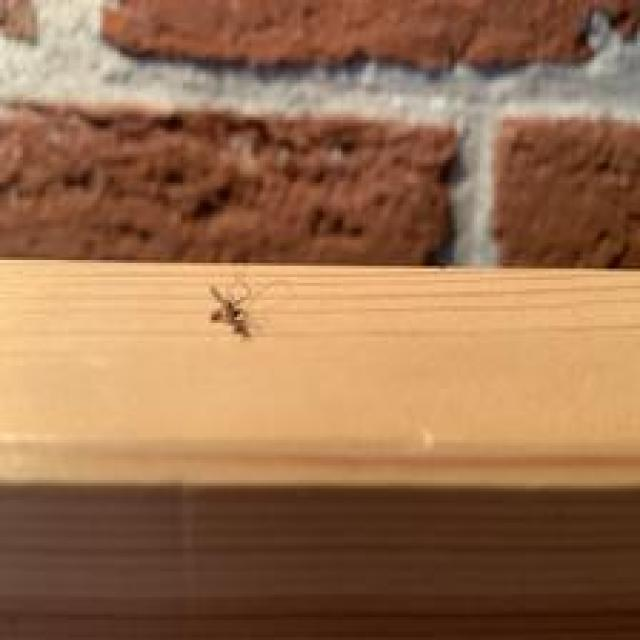Culex: (206, 282, 254, 338)
